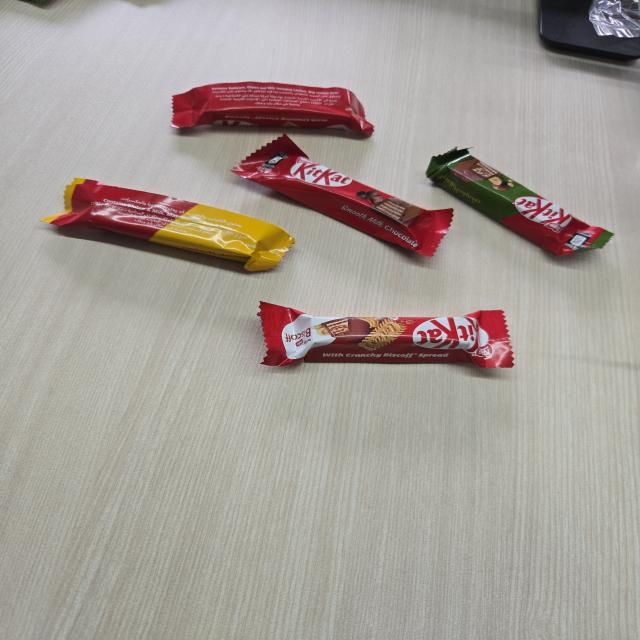chocolate-bar: (230, 134, 458, 266), (38, 172, 296, 274), (424, 145, 618, 264), (254, 298, 521, 376), (164, 78, 378, 142)
